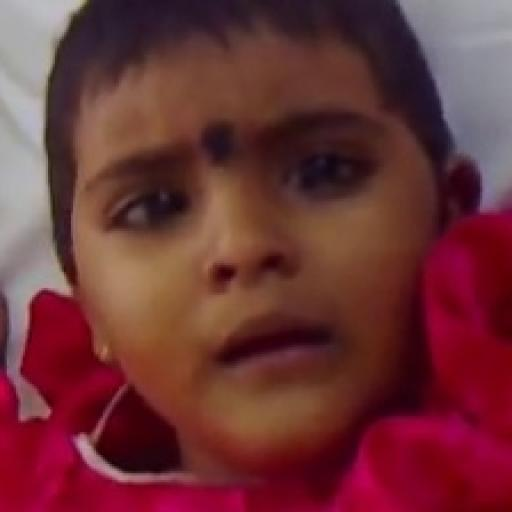Autism: (33, 2, 496, 476)
